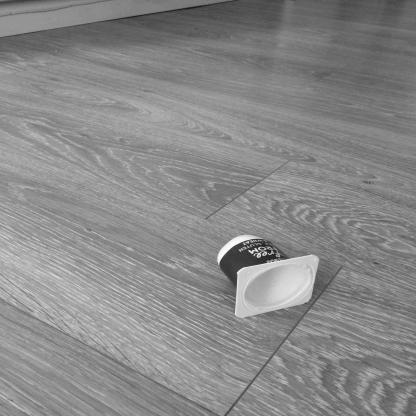plastic: (215, 237, 329, 319)
